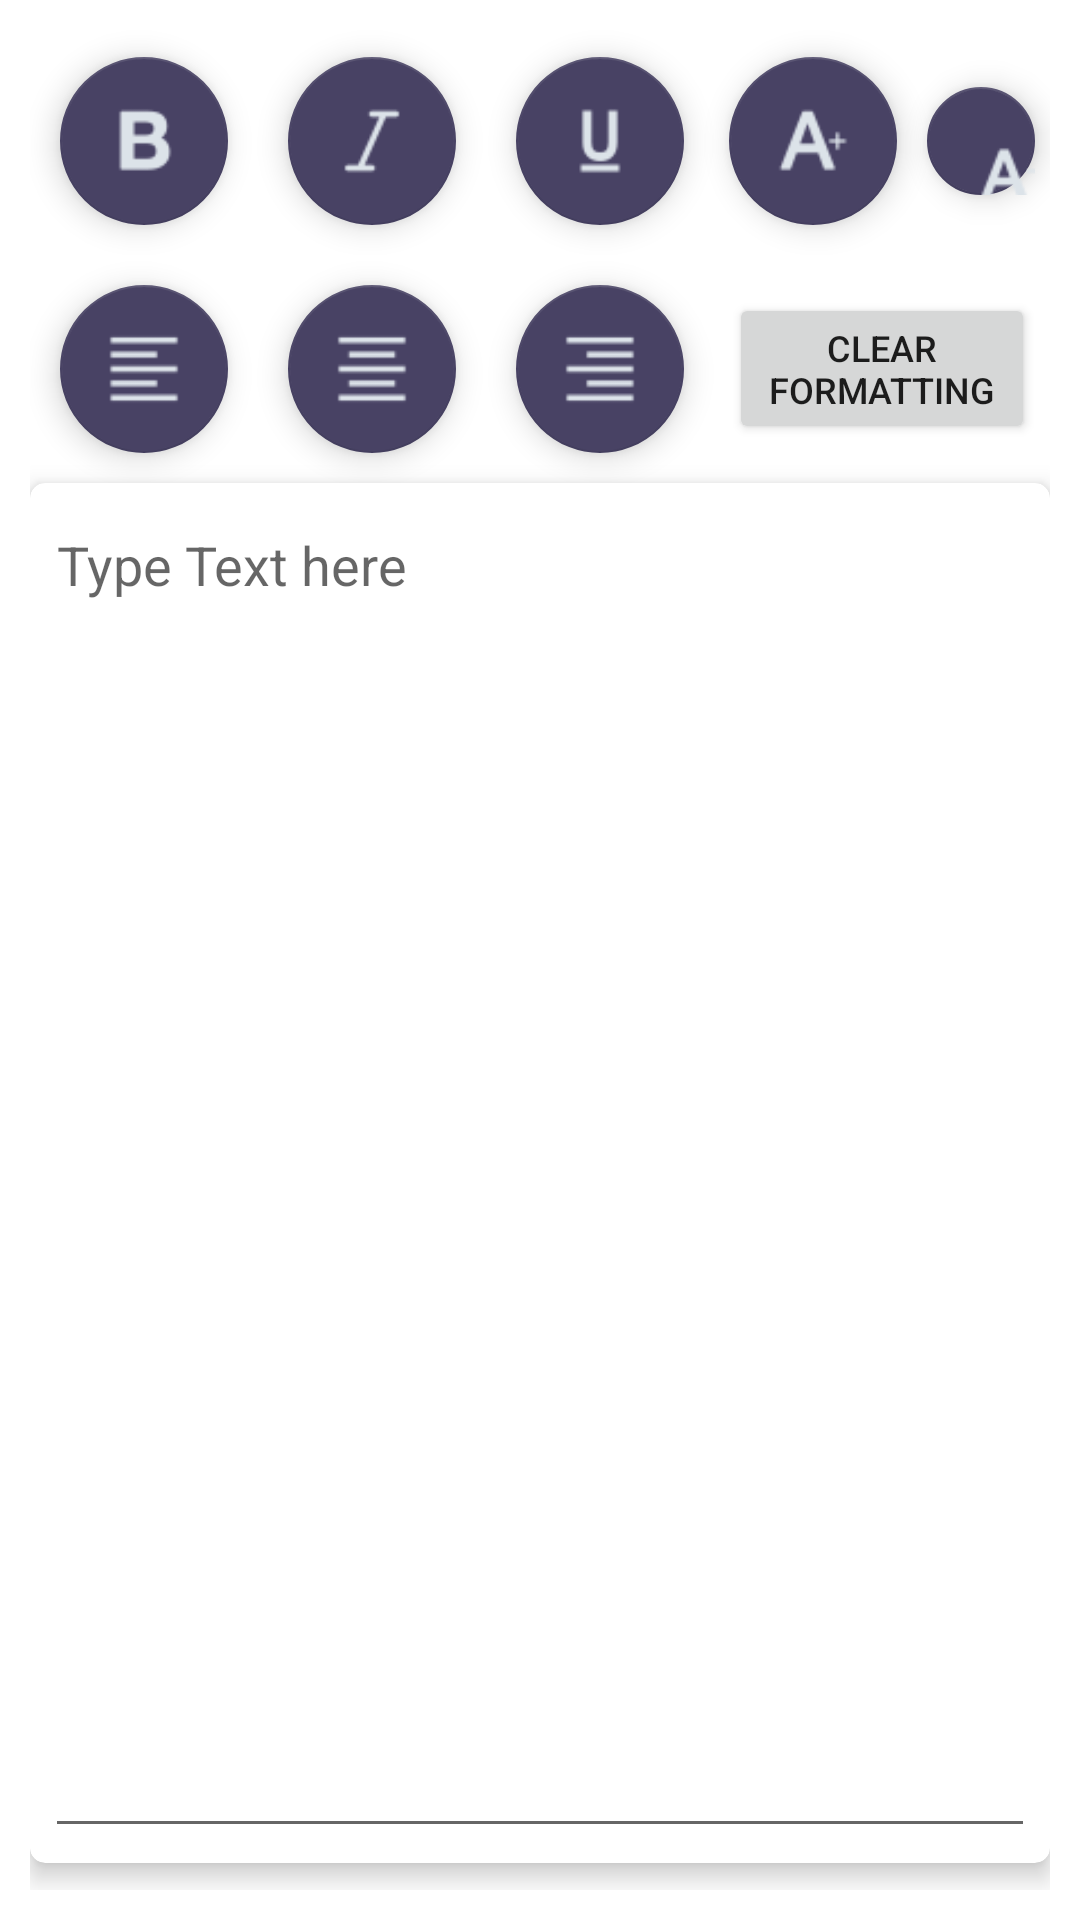

Screen size 1080×1920. Icon name, then its center in pixels as [x,y]:
center: [372,369]
inc font: [813,141]
italic: [372,141]
left: [144,369]
right: [600,369]
underline: [600,141]
